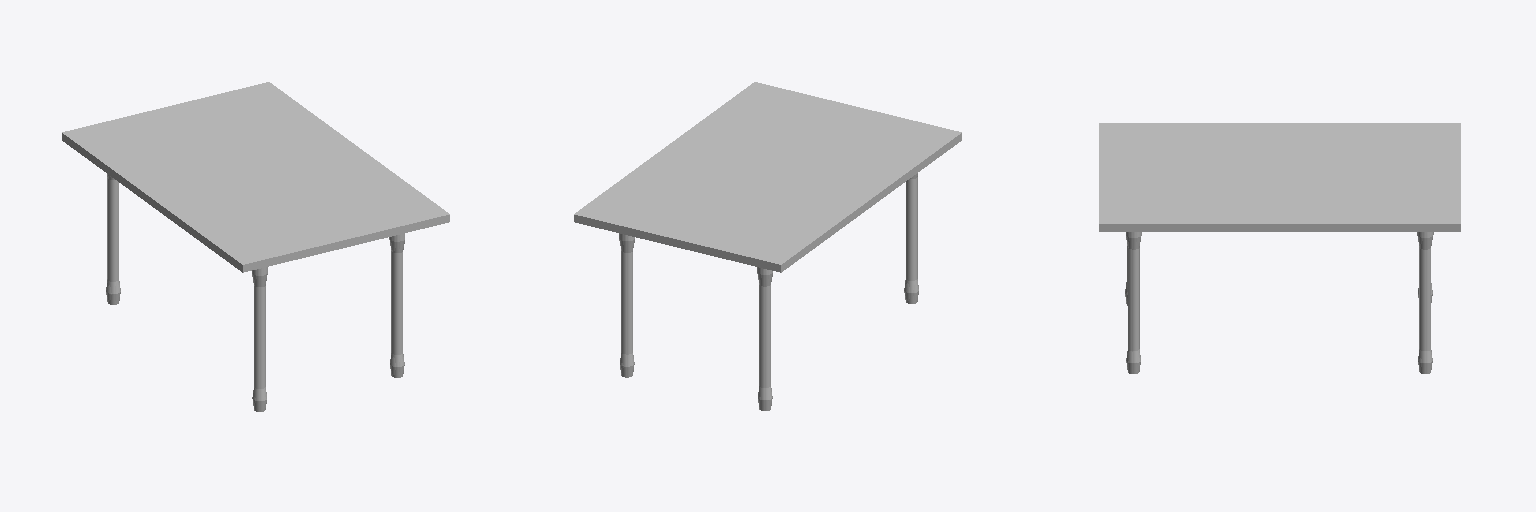
File: table.obj
The picture shows the model from 3 angles: view 1: azimuth 30°, elevation 25°; view 2: azimuth 150°, elevation 25°; view 3: azimuth 270°, elevation 25°; orthographic projection.
Parts seen in each view (by area): view 1: Cube, Cylinder.003, Cylinder.001, Cylinder.002; view 2: Cube, Cylinder, Cylinder.002, Cylinder.003; view 3: Cube, Cylinder, Cylinder.001.
Part boxes in pixels (x1,y1,x2,y2): Cube: (62, 82, 449, 272); Cylinder.003: (252, 267, 267, 411); Cylinder.001: (389, 233, 404, 377); Cylinder.002: (106, 174, 120, 304); Cube: (574, 82, 961, 272); Cylinder: (619, 233, 634, 377); Cylinder.002: (757, 267, 772, 410); Cylinder.003: (904, 173, 918, 303); Cube: (1099, 123, 1460, 231); Cylinder: (1417, 232, 1433, 373); Cylinder.001: (1126, 232, 1141, 373).
Bounding box in the file's own units: 5.96 × 4.54 × 9.01.